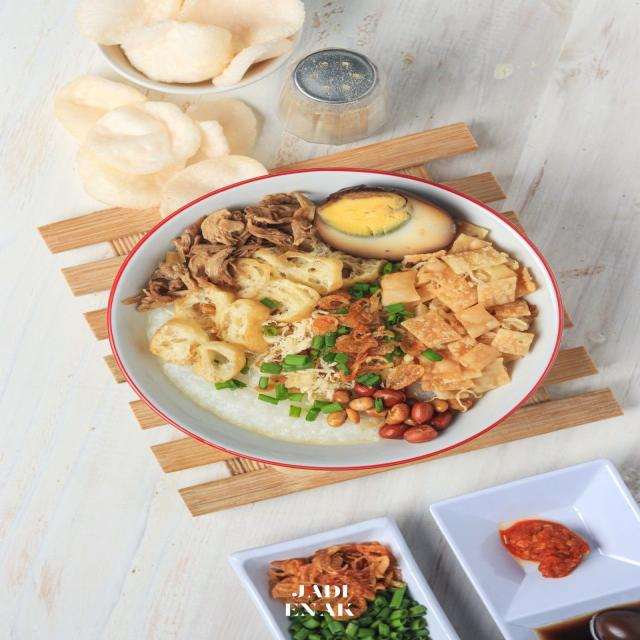bubur ayam: (141, 184, 541, 443)
mangkuk: (105, 166, 566, 469)
telur rebus: (312, 188, 458, 262)
